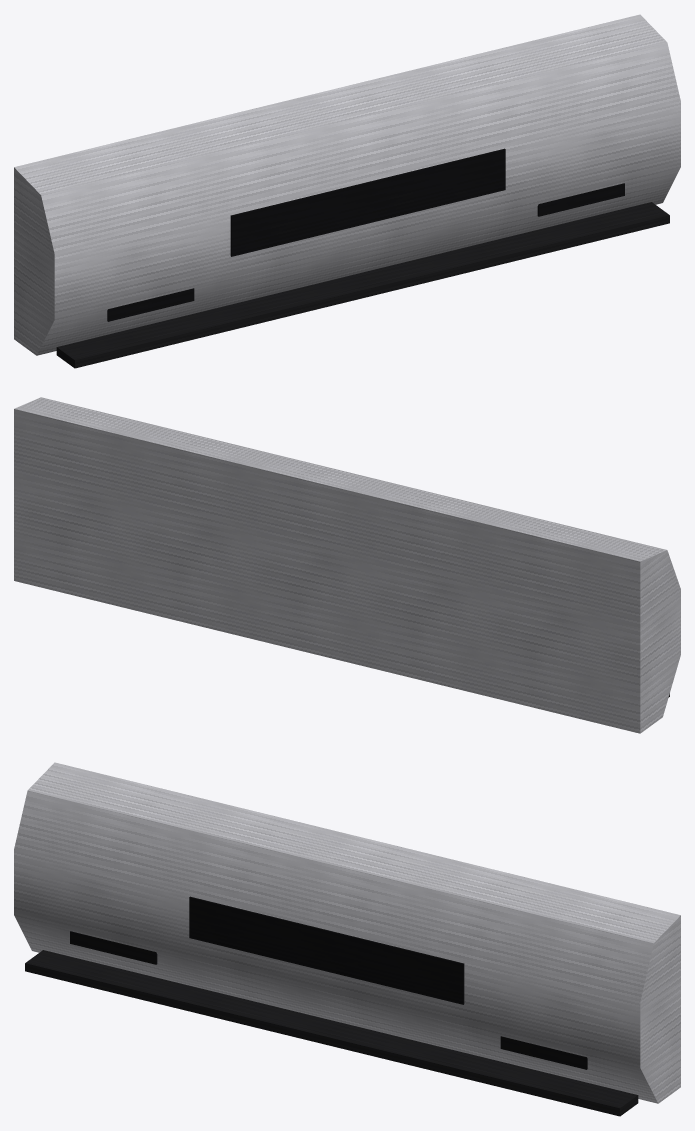
Rendered from para_choque_n1.glb.
The picture shows the model from 3 angles, top to bottom: view 1: azimuth 30°, elevation 25°; view 2: azimuth 150°, elevation 25°; view 3: azimuth 330°, elevation 25°; orthographic projection.
Visible parts, largest first — view 1: para_choque_n1; view 2: para_choque_n1; view 3: para_choque_n1.
Part boxes in pixels (bbox=[...]): para_choque_n1: bbox=[14, 14, 680, 368]; para_choque_n1: bbox=[14, 397, 680, 733]; para_choque_n1: bbox=[14, 762, 680, 1116].
Bounding box in the file's own units: 1.6 × 0.42 × 0.2.
1 material, 1 textured.
